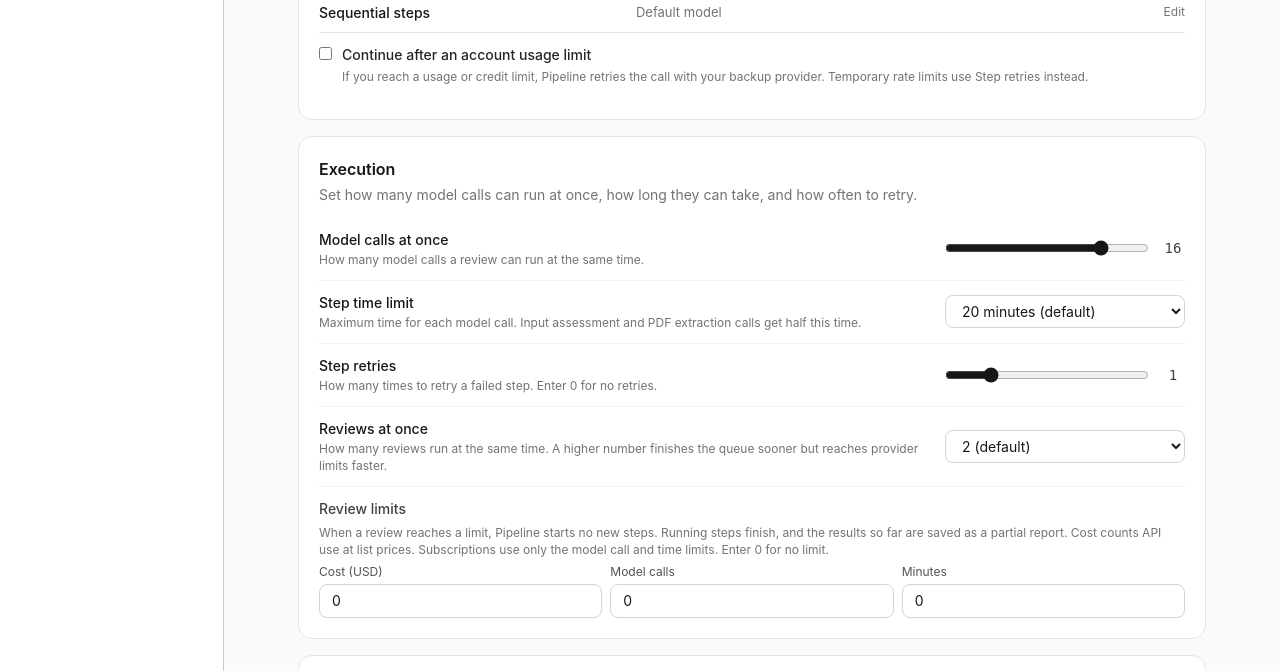
Test: SettingsPage autosave › automatically saves changes and shows the saved indicator
This screenshot has width=1280, height=671.
(page scrolled)
Check: the button "Save" is not shown
Select "30 minutes" in the dropdown named "Step time limit". click: (1065, 312)
box: [945,295,1185,328]
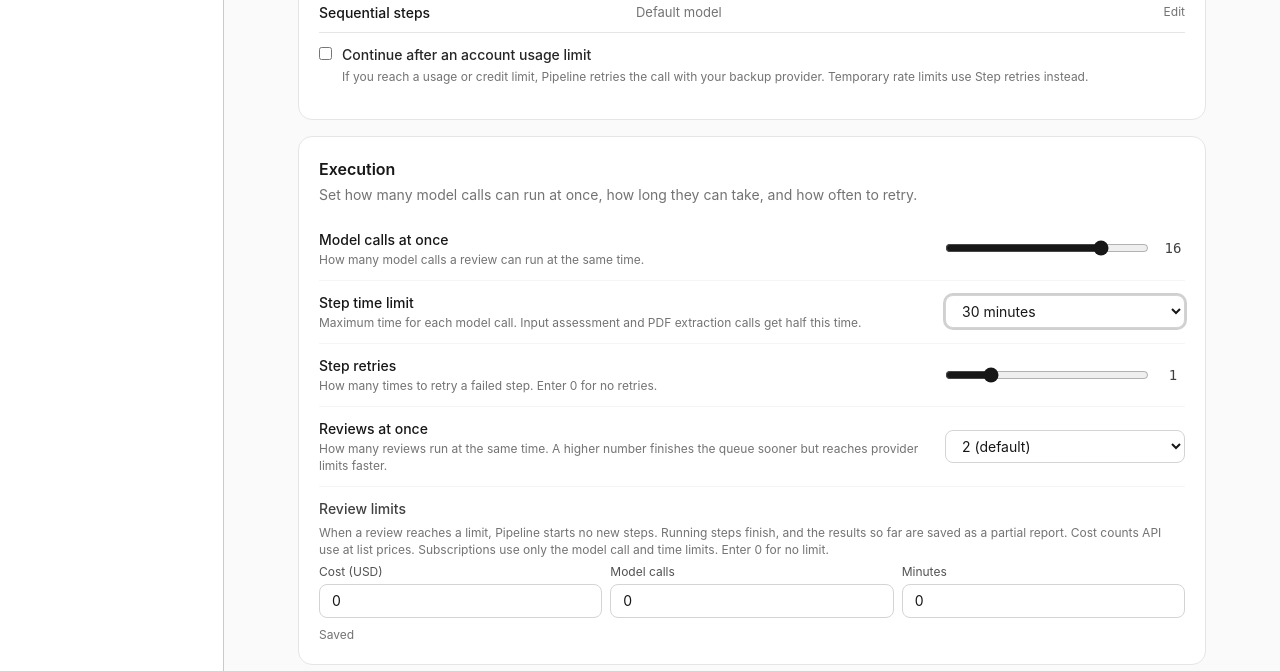
Check: the text "Saved" is shown, box [319,627,354,642]
